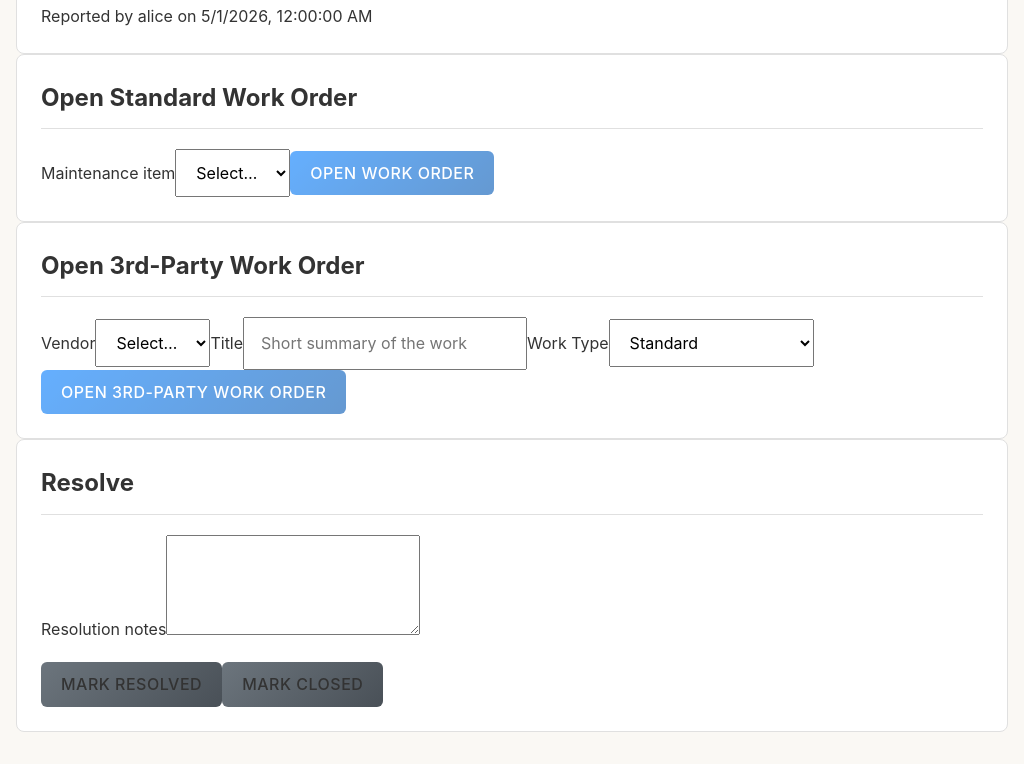
Test: LocationProblemDetailPage reactive contract (gh-453) › resolve patches the problem from the API response — no follow-up GET, no full reload
(page scrolled)
Type "Replaced handle" into the text box labelled "Resolution notes" at {"x": 293, "y": 585}, box [166,535,420,635]
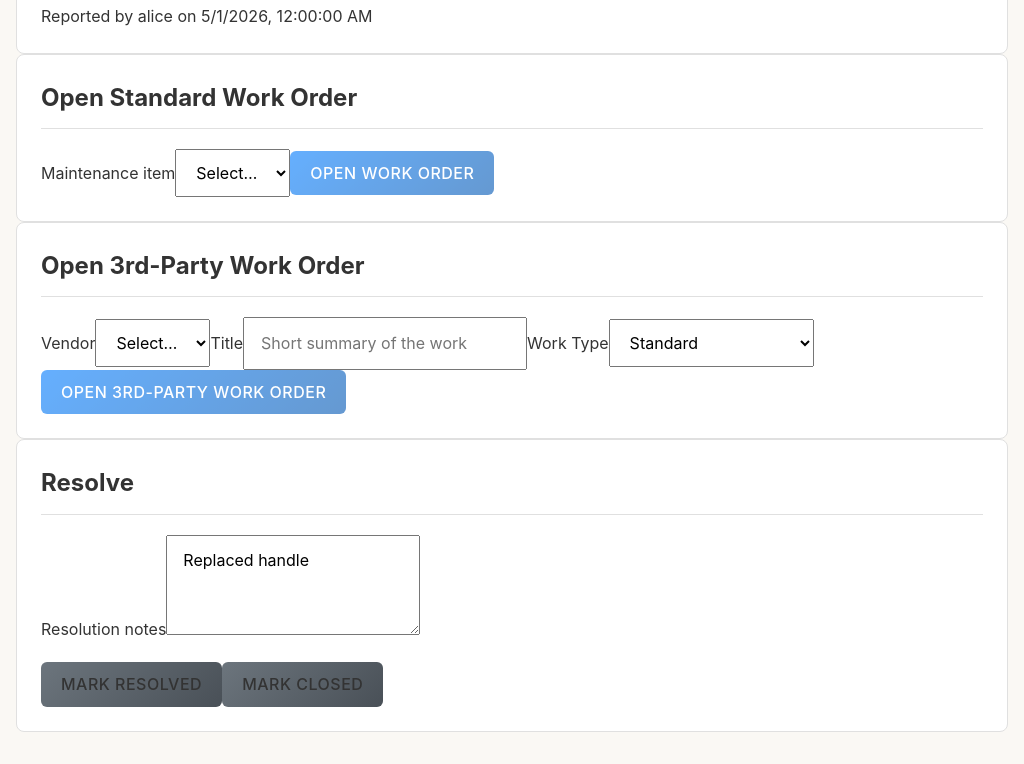
Click the button "Mark Resolved" at {"x": 132, "y": 684}, box [41,662,222,707]
(page scrolled)
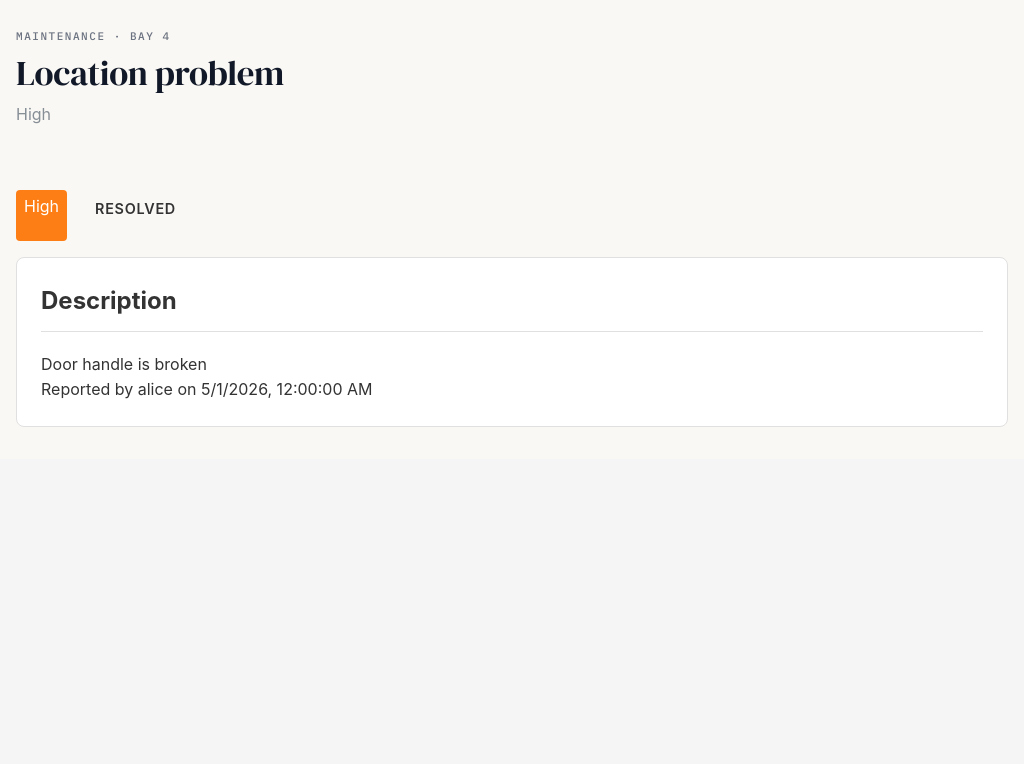
Check: the text "Resolved" is shown, box [95,200,176,217]
